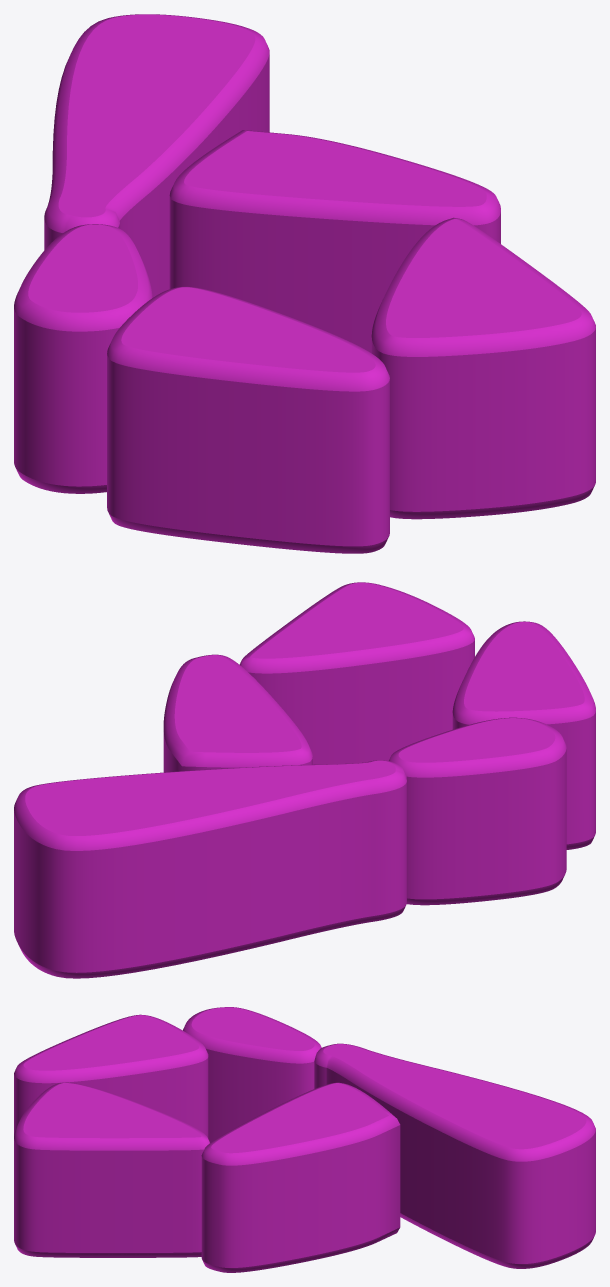
The model's file is Number_9.fbx.
The picture shows the model from 3 angles, top to bottom: view 1: azimuth 30°, elevation 25°; view 2: azimuth 150°, elevation 25°; view 3: azimuth 270°, elevation 25°; orthographic projection. The views are drawn at different scales.
Parts seen in each view (by area): view 1: Number_9; view 2: Number_9; view 3: Number_9.
Part boxes in pixels (x1=…): Number_9: x1=14, y1=14, x2=595, y2=553; Number_9: x1=14, y1=582, x2=595, y2=978; Number_9: x1=14, y1=1007, x2=595, y2=1272.
Size of the model in its own units: 0.3867 by 0.14 by 0.6183.
